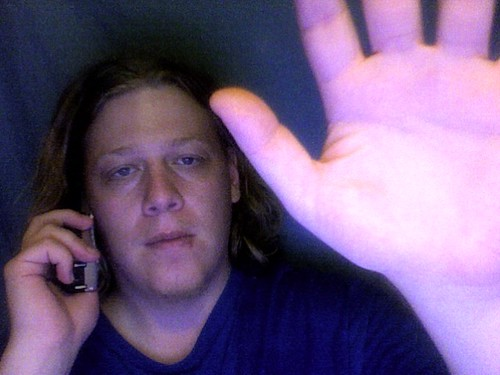phone: (40, 192, 105, 295)
talk: (7, 126, 226, 344)
